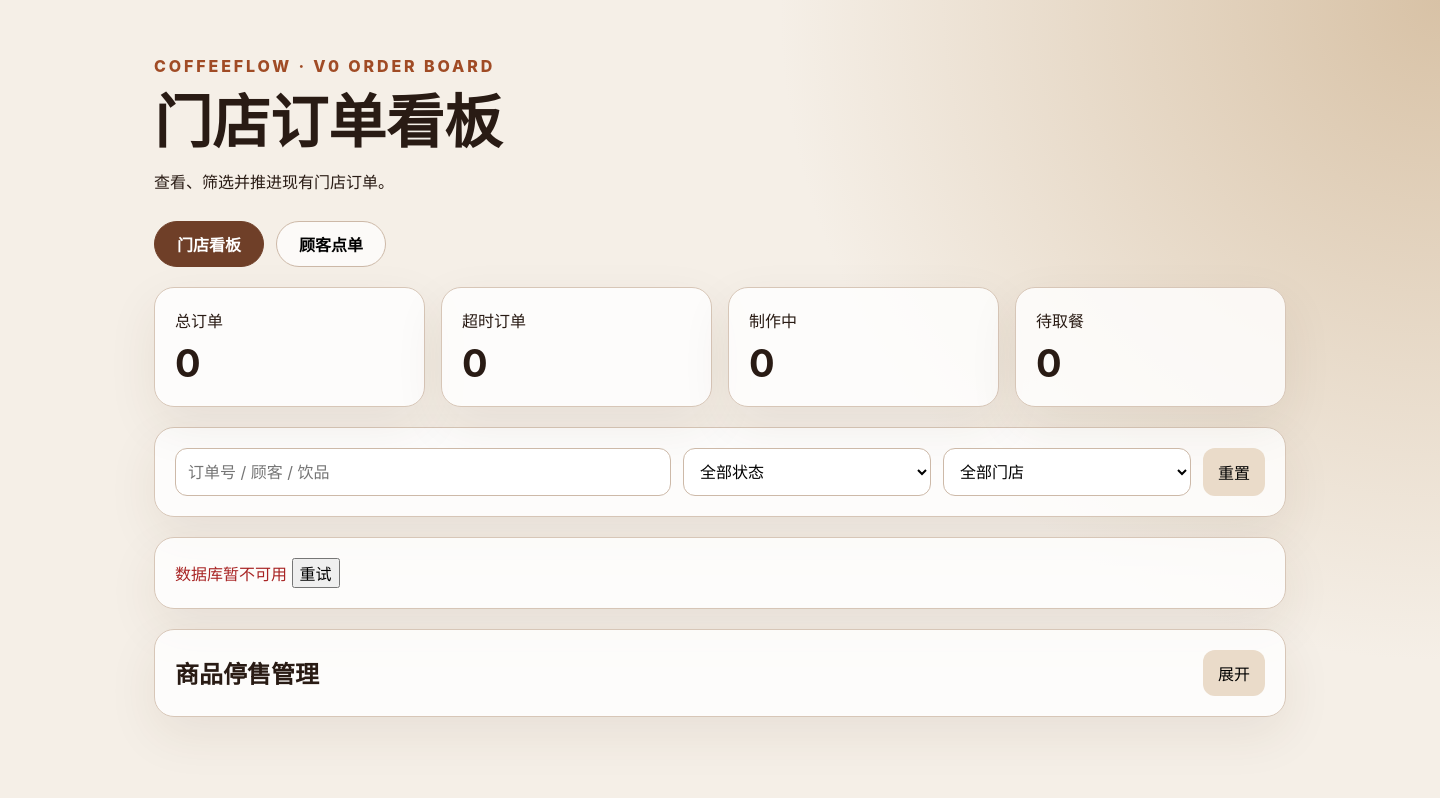
Test: CoffeeFlow V0 › 列表加载失败时展示后端错误并可重试
The width and height of the screenshot is (1440, 798).
Click the button "重试" at (316, 573), box [292, 558, 340, 588]
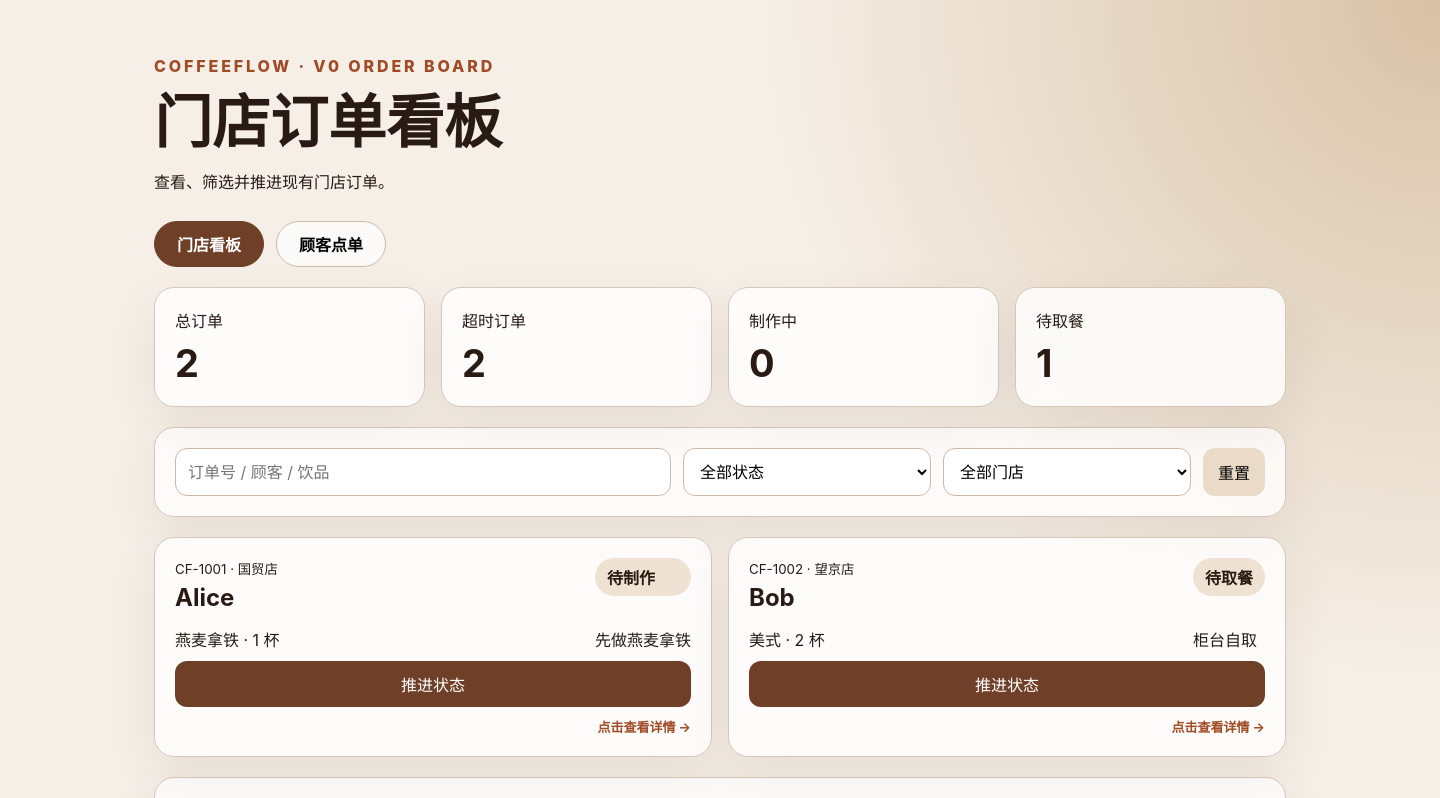
Check: the text "CF-1001" is shown, box [175, 561, 278, 577]
